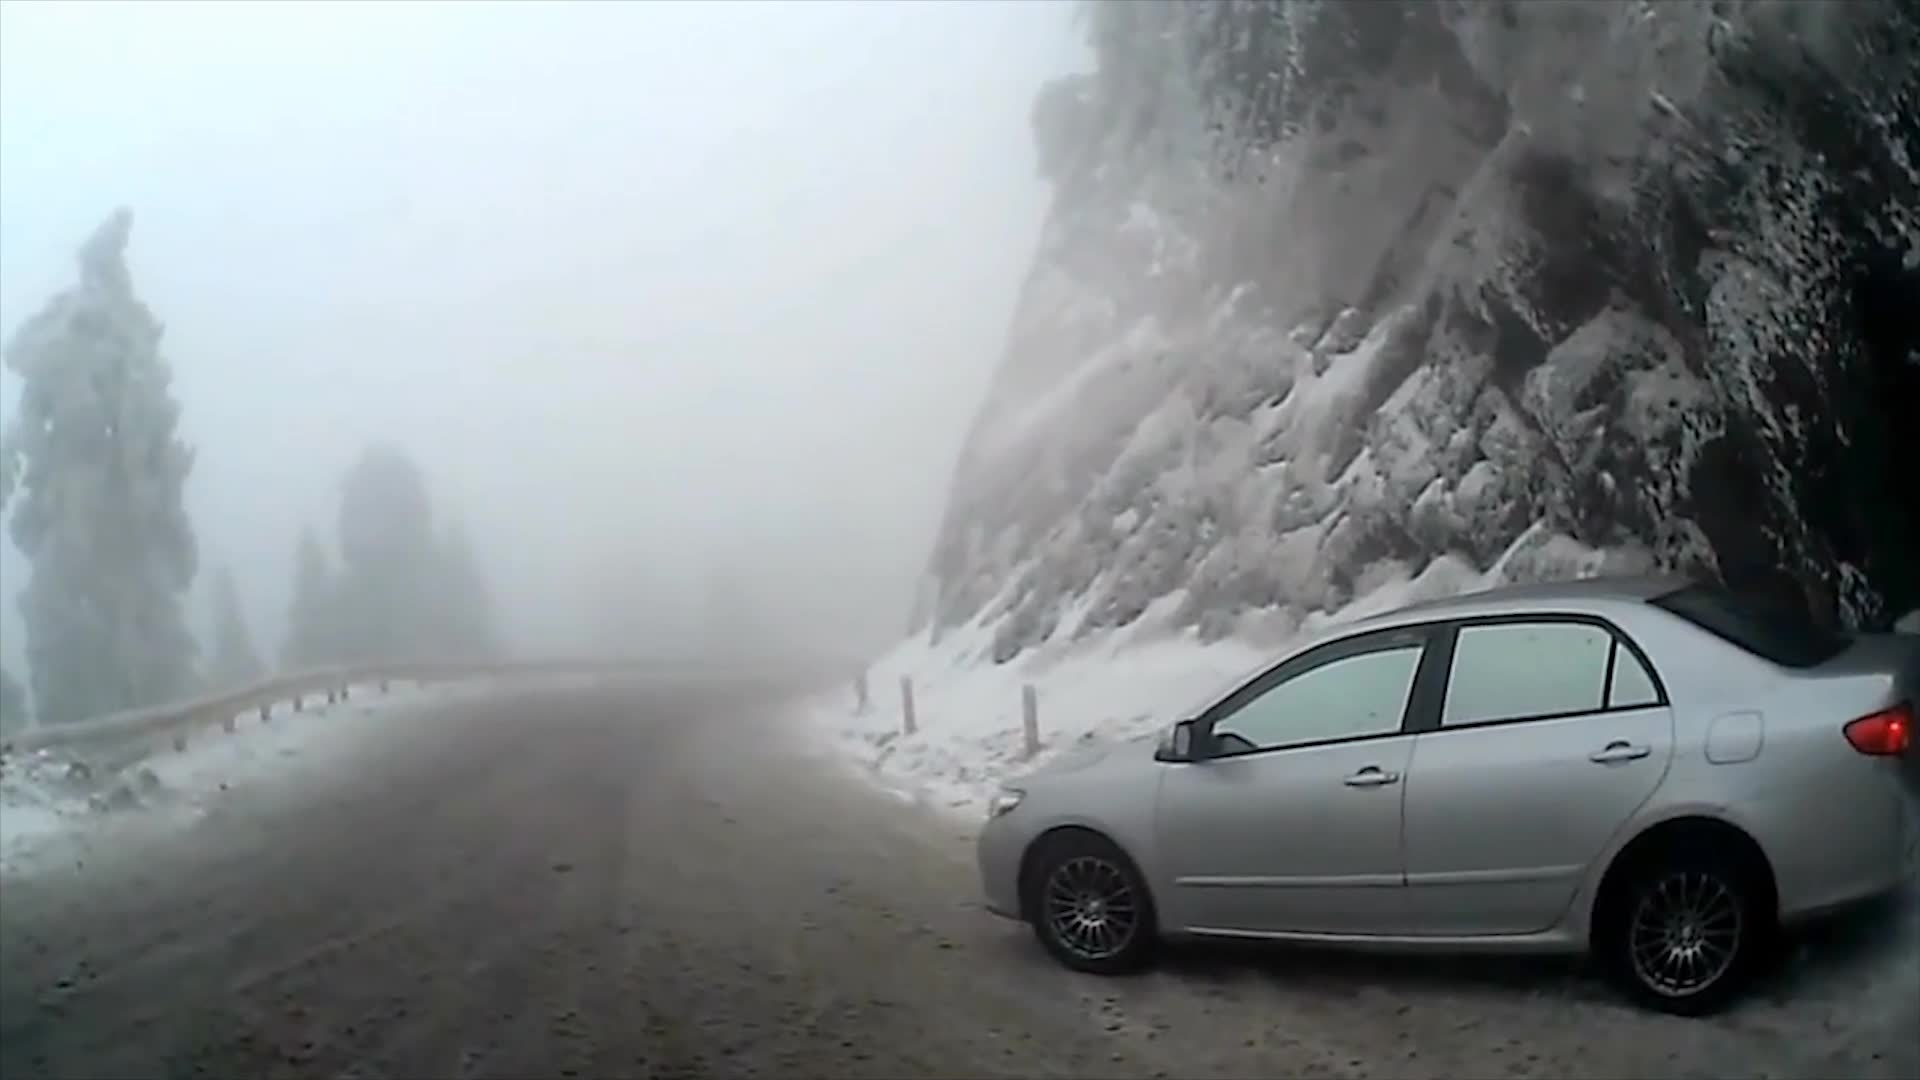vehicle: (977, 574, 1920, 1019)
